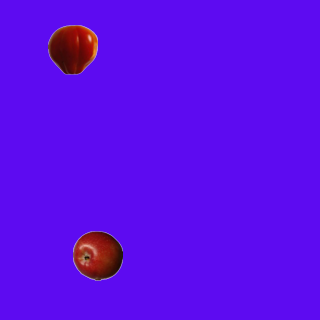Apple Braeburn: (72, 230, 122, 280)
Tomato 1: (47, 24, 97, 74)
